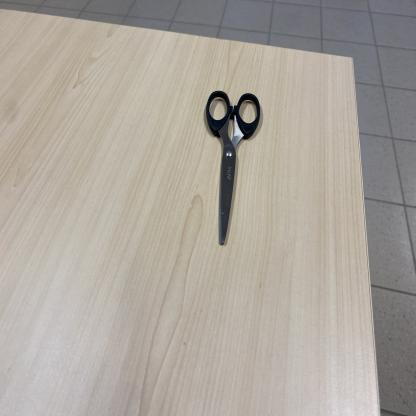scissors: (206, 89, 261, 245)
